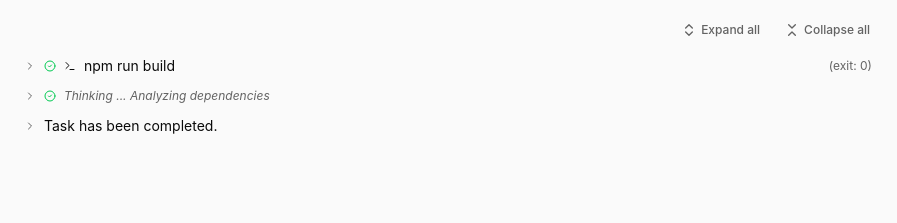
Test: Execution Activity Log - Expanded/Collapsed States › expands all collapsed activities when clicking "Expand all"
The image size is (897, 223).
expect the text "Build complete" is not shown: met
Click the button with aria-label "Expand all activities" at point(721, 30), box [671,16,770,44]
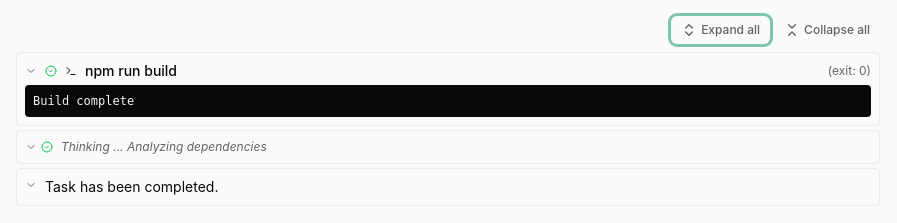
expect the text "Build complete" is shown: met, box [33,94,134,108]
